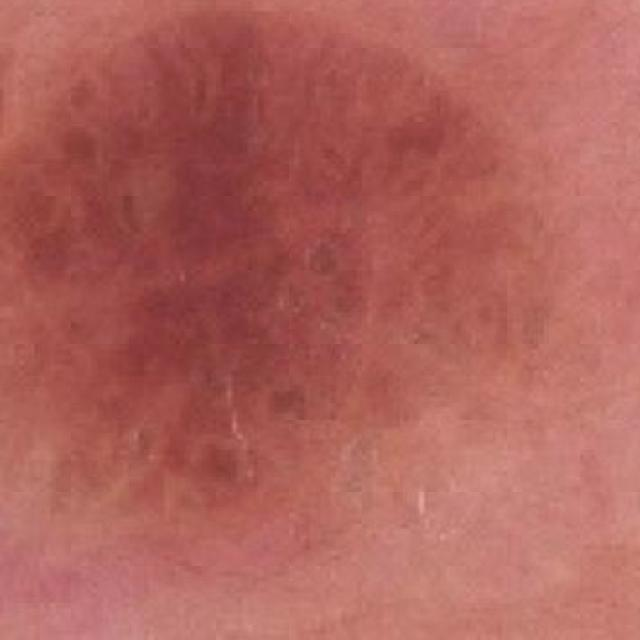BKL: (0, 0, 551, 501)
